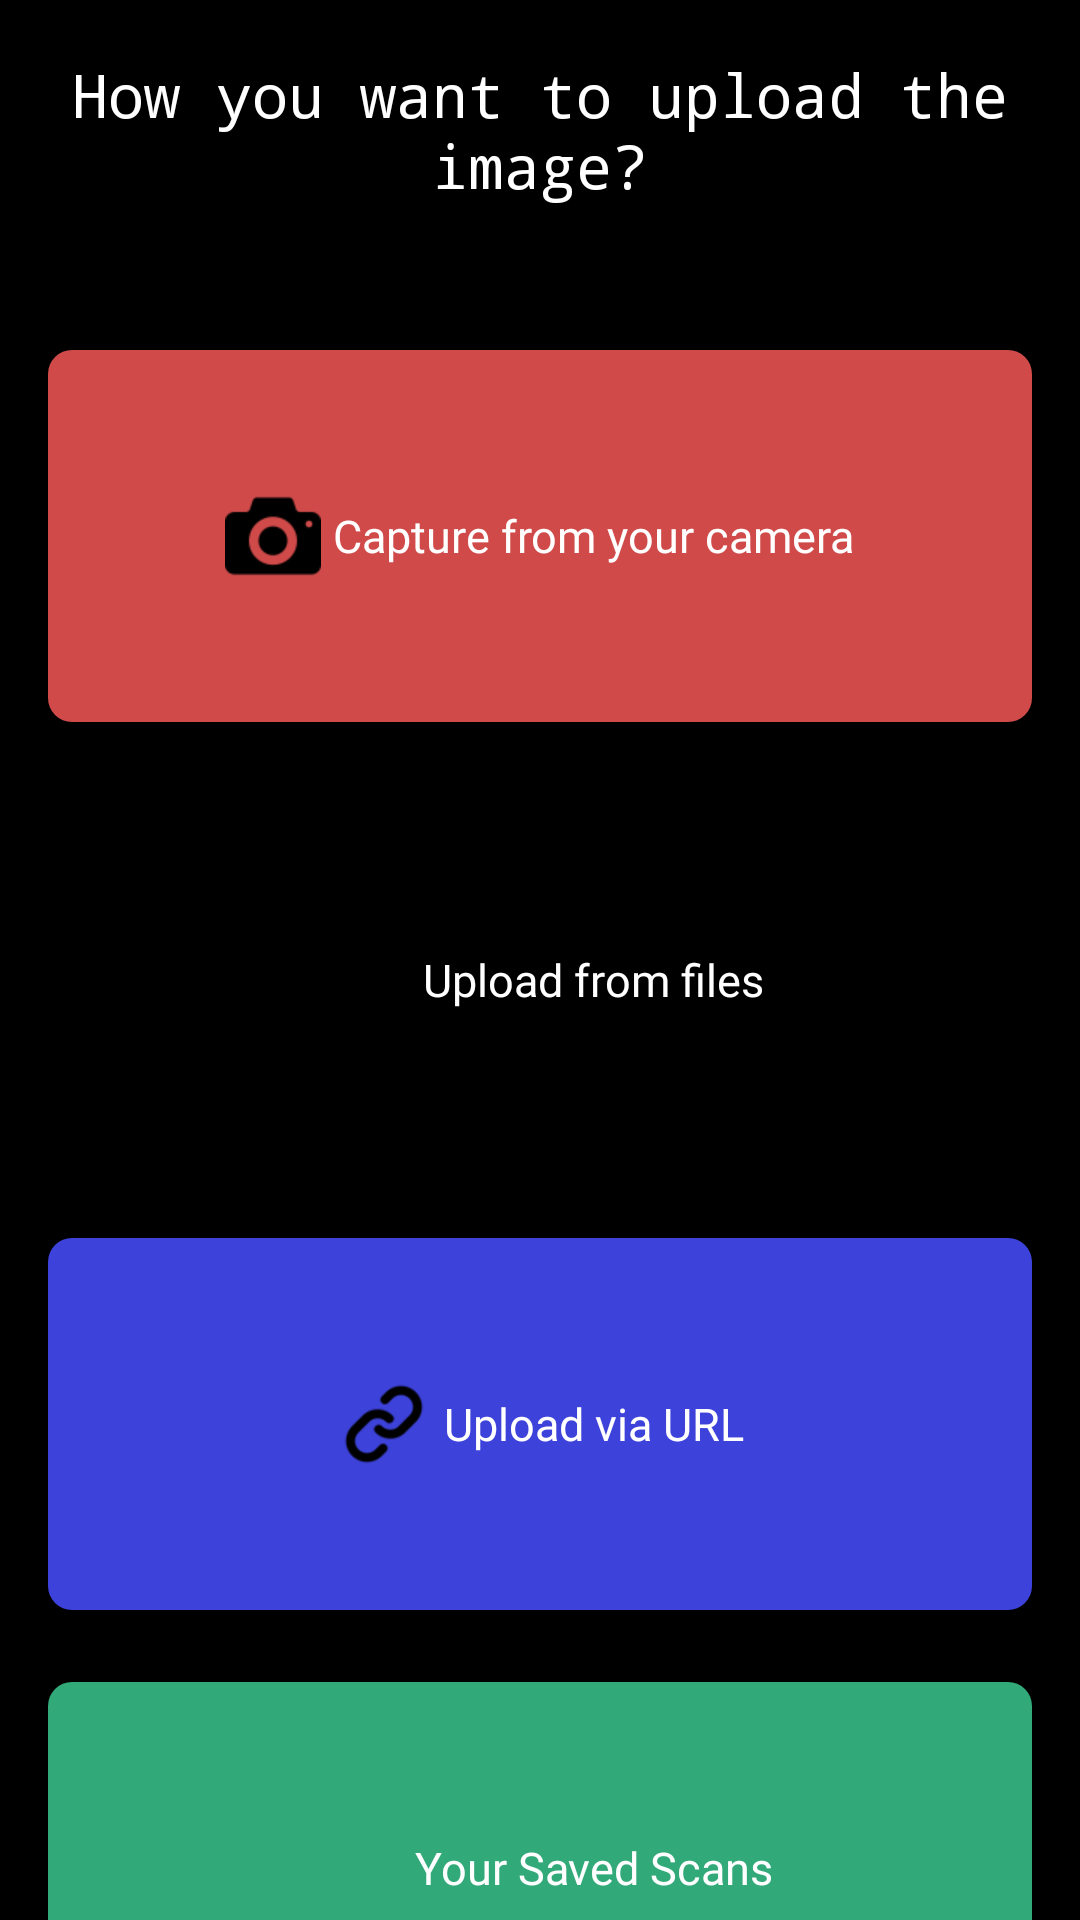

Where icons sit on this 1080*1920 app screen, as bbox(x1, y1, x2, y2):
link: bbox(345, 1385, 423, 1463)
